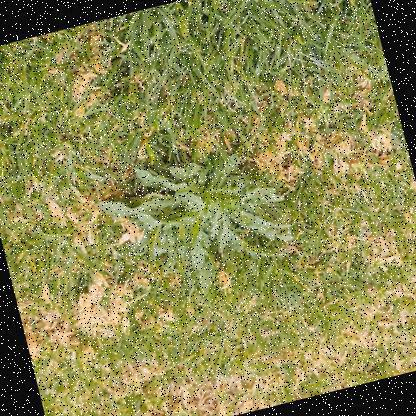Weeds: (89, 131, 308, 318)
